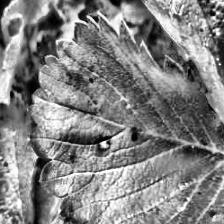Leaf Spot: (26, 10, 224, 224), (127, 0, 224, 147), (0, 88, 42, 224), (30, 159, 82, 224)
